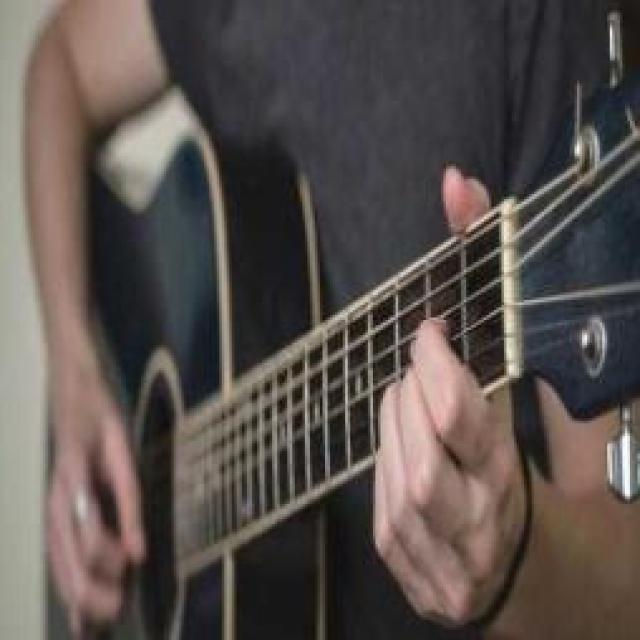acousticguitar: (93, 76, 637, 635)
